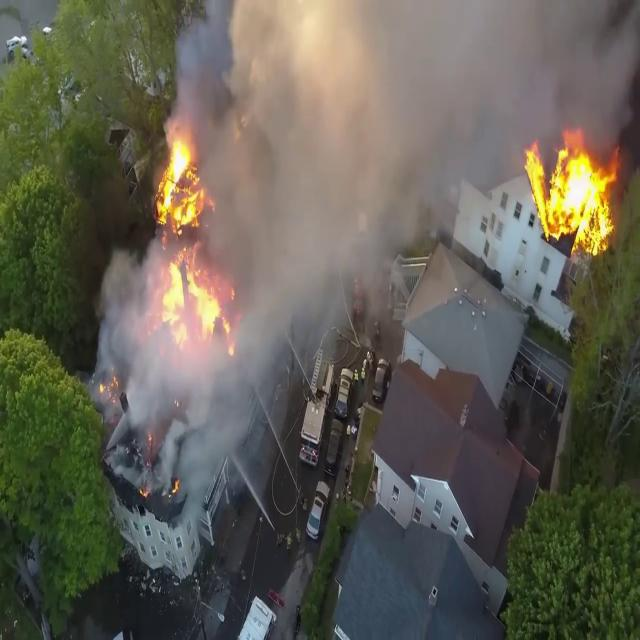Fire: (148, 128, 232, 360), (523, 131, 621, 260)
Smoke: (173, 5, 640, 280), (94, 235, 162, 412)
